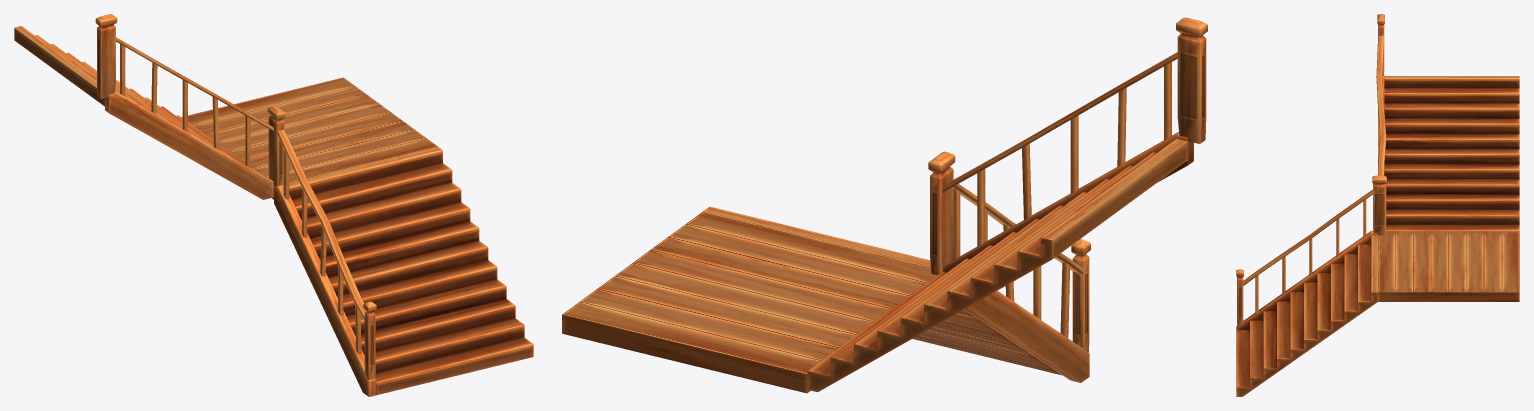
File: PropStairs01TypeB.FBX
3 views of the same model, side by side, from view 1: azimuth 30°, elevation 25°; view 2: azimuth 150°, elevation 25°; view 3: azimuth 270°, elevation 25° (orthographic). The views are drawn at different scales.
Visible parts, largest first — view 1: PropStairs01TypeB; view 2: PropStairs01TypeB; view 3: PropStairs01TypeB.
Boxes of the visible parts, <box> form: PropStairs01TypeB: <box>14,14,533,396</box>; PropStairs01TypeB: <box>562,17,1207,393</box>; PropStairs01TypeB: <box>1236,14,1519,396</box>.
Size of what is drawn, in the model's own units: 4.63 by 4.58 by 4.5.
